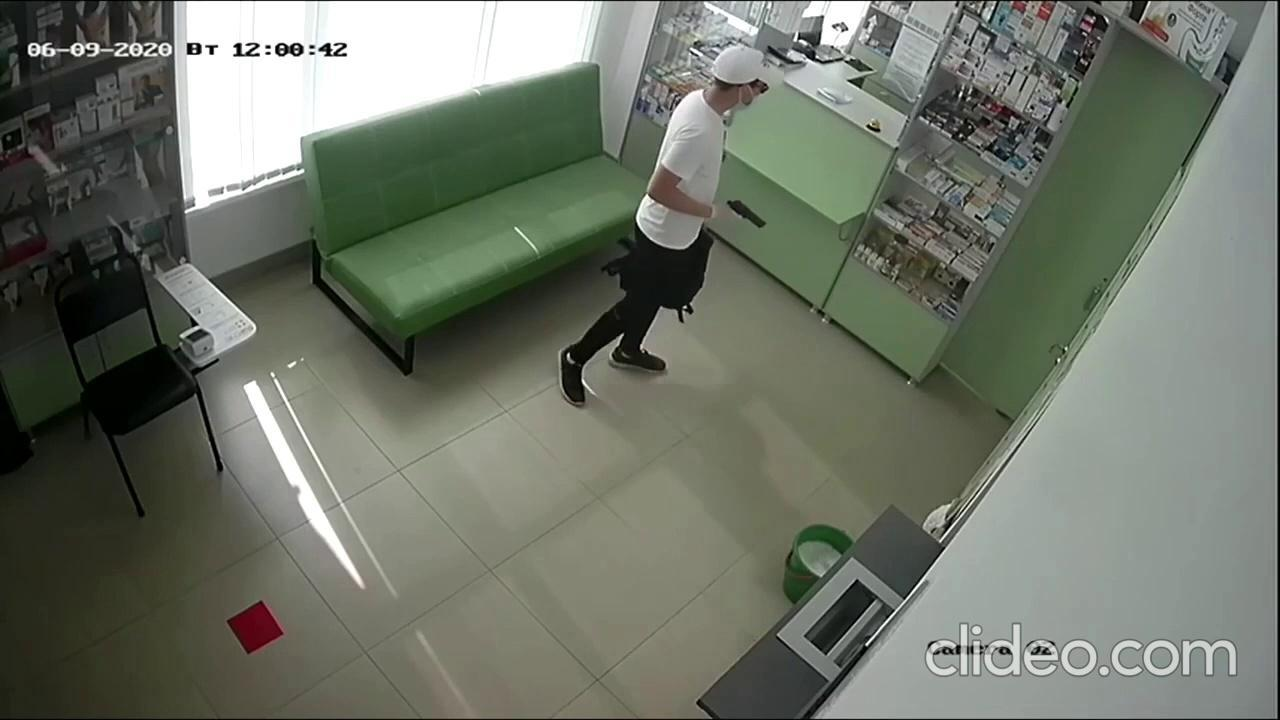person: (555, 43, 786, 409)
pistol: (725, 197, 770, 232)
